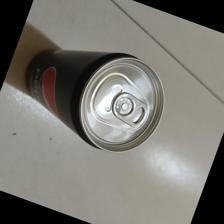Pepsi: (27, 49, 166, 154)
